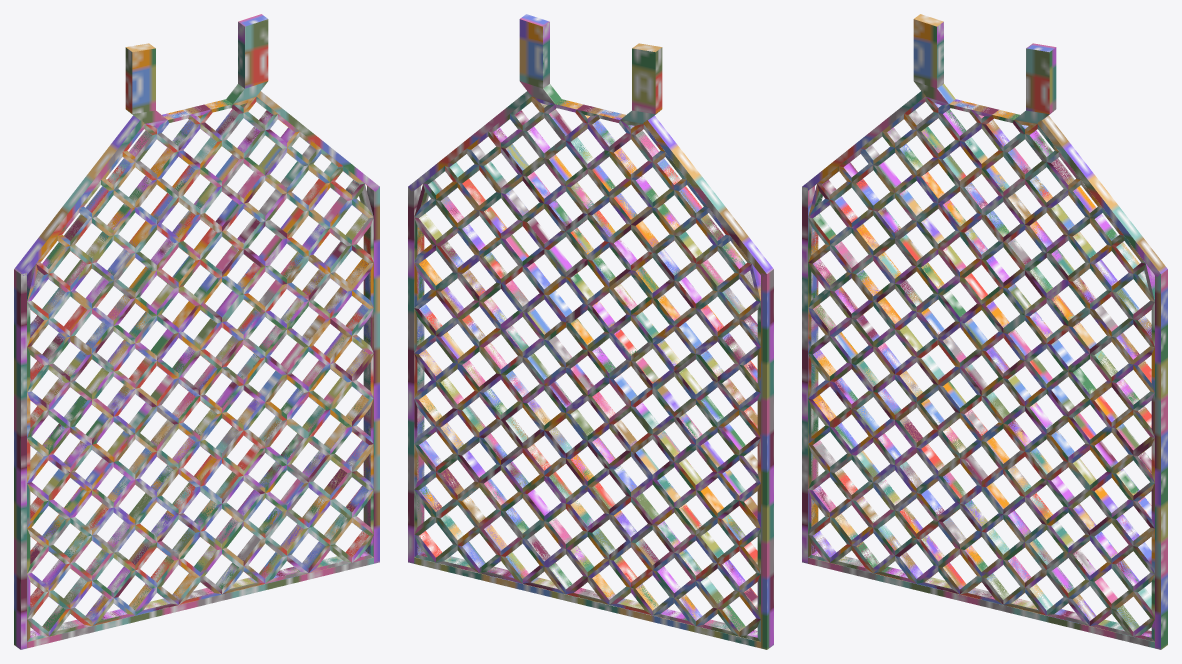
Rendered from gridfin.obj.
The picture shows the model from 3 angles, left to right: view 1: azimuth 30°, elevation 25°; view 2: azimuth 150°, elevation 25°; view 3: azimuth 330°, elevation 25°; orthographic projection.
Visible parts, largest first — view 1: Cube1; view 2: Cube1; view 3: Cube1.
Boxes of the visible parts, x1,y1,x2,y2 form: Cube1: [14, 14, 379, 649]; Cube1: [408, 14, 773, 649]; Cube1: [802, 14, 1167, 649].
Size of the model in its own units: 3 by 4.55 by 0.1.
Materials: 1 (1 with a texture image).
